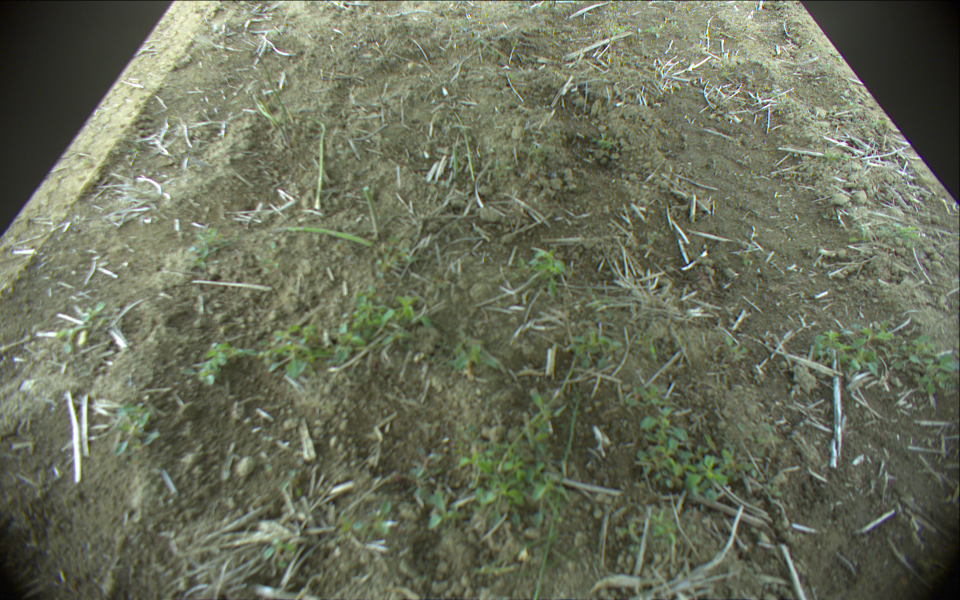aspa: (250, 49, 291, 121), (264, 228, 374, 250), (253, 92, 290, 150), (313, 113, 326, 211), (363, 185, 380, 229)
